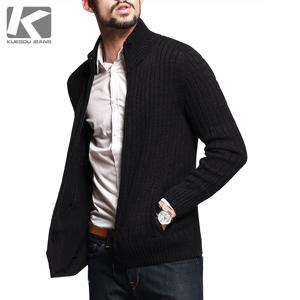F_M_suit jacket: (41, 30, 246, 260)
